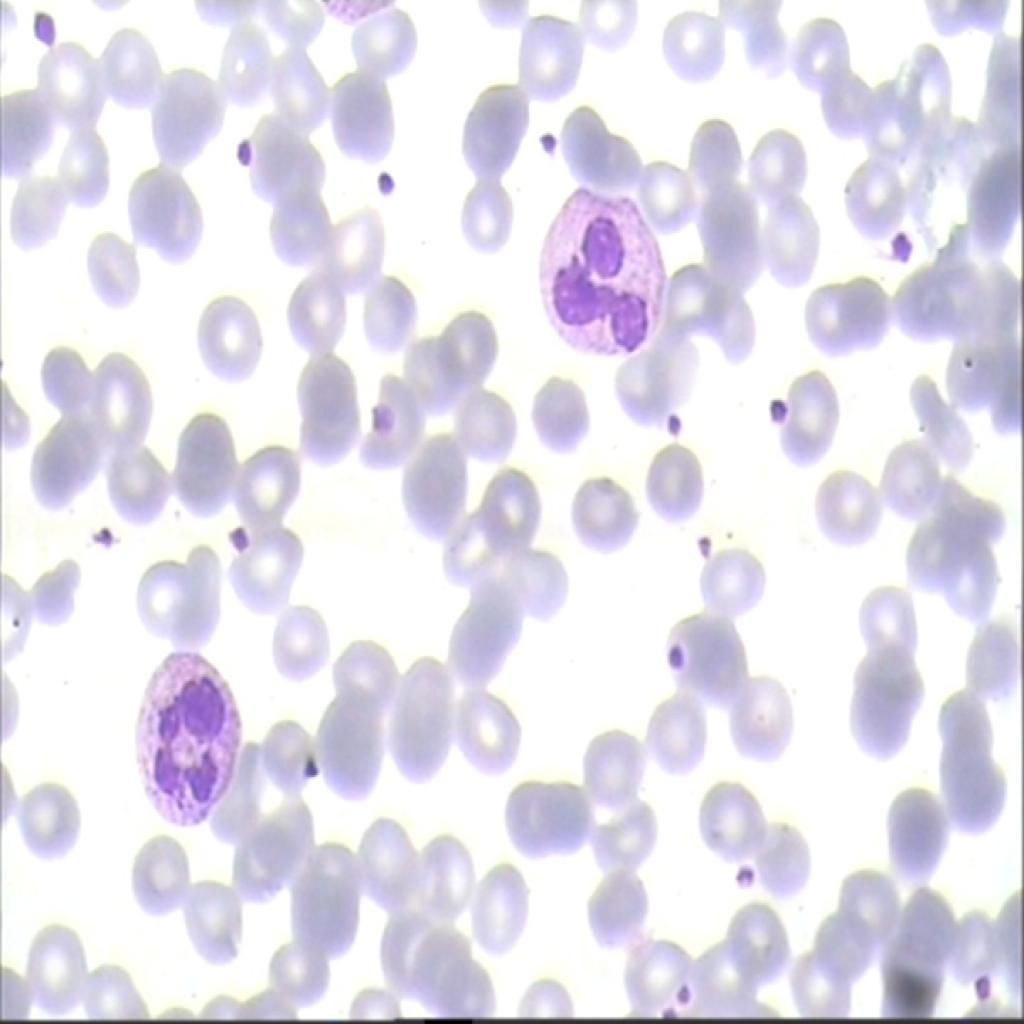Neutrofil: (526, 185, 676, 373), (124, 633, 253, 830)
Platelet: (681, 508, 724, 566), (883, 219, 922, 277), (24, 11, 70, 55), (658, 400, 702, 444), (757, 368, 789, 425), (80, 508, 112, 562), (660, 631, 691, 686), (230, 121, 264, 169), (528, 112, 563, 158), (370, 154, 395, 210), (223, 512, 253, 556), (363, 393, 387, 443), (735, 853, 761, 896), (967, 967, 996, 1001), (670, 974, 692, 1012), (300, 748, 324, 782)
